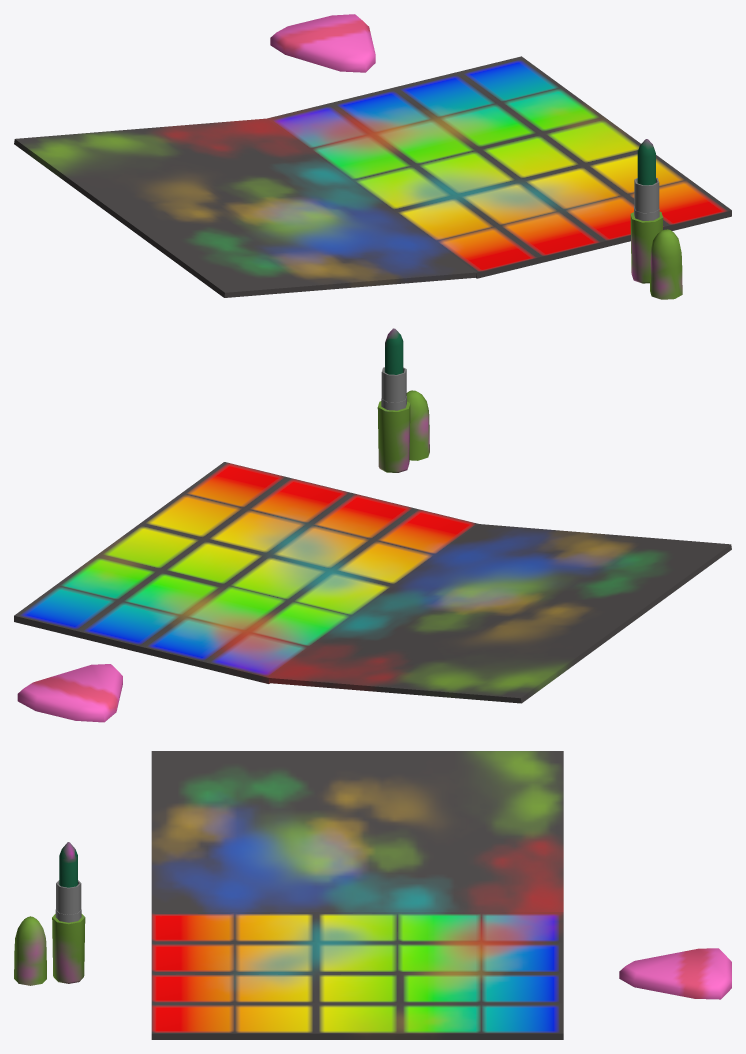
Rendered from Prop_076_Makeup.fbx.
3 renders of one model, top to bottom at view 1: azimuth 30°, elevation 25°; view 2: azimuth 150°, elevation 25°; view 3: azimuth 270°, elevation 25°, orthographic. The views are drawn at different scales.
Visible parts, largest first — view 1: Prop_076_Makeup; view 2: Prop_076_Makeup; view 3: Prop_076_Makeup.
Part boxes in pixels (bbox=[...]): Prop_076_Makeup: bbox=[14, 14, 731, 299]; Prop_076_Makeup: bbox=[14, 328, 731, 722]; Prop_076_Makeup: bbox=[14, 751, 731, 1039].
Size of the model in its own units: 0.5854 by 0.1533 by 0.7321.
Materials: 1 (1 with a texture image).
